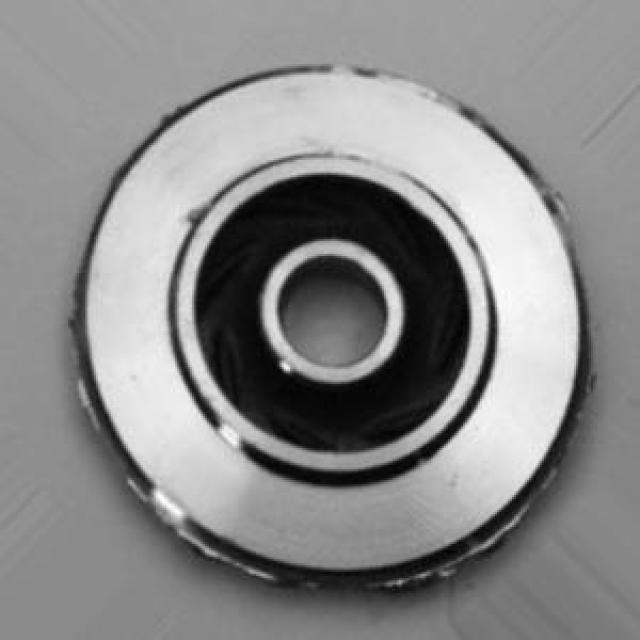Defect: (400, 555, 476, 600)
